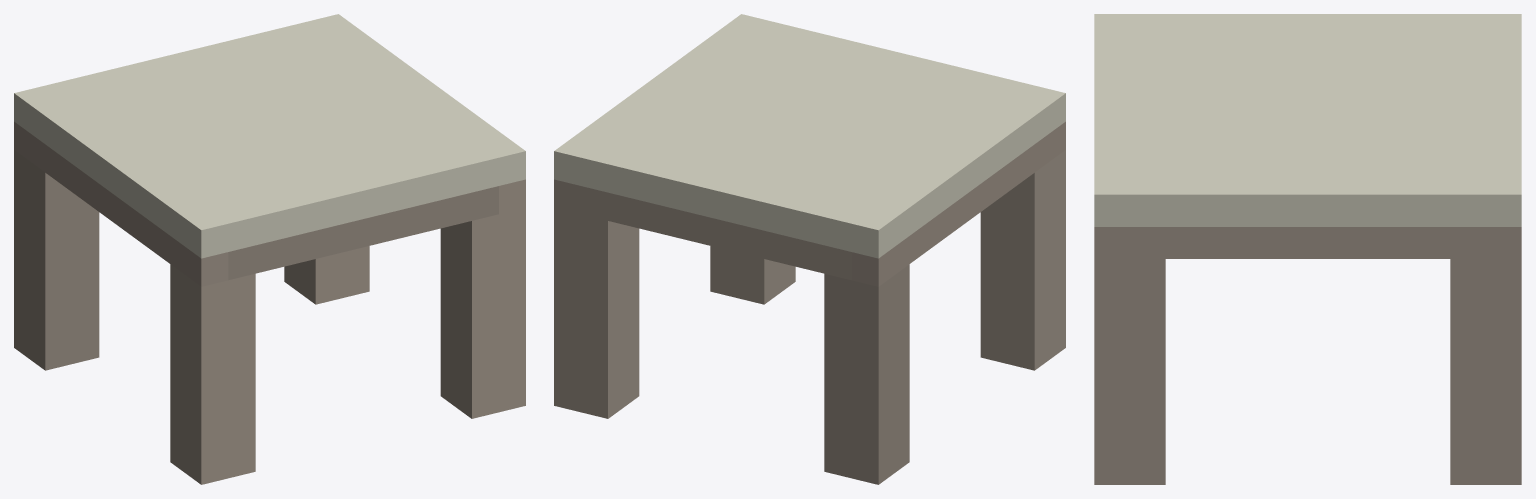
File: mesa_reposteria_desgastada_01.glb
3 renders of one model, left to right at view 1: azimuth 30°, elevation 25°; view 2: azimuth 150°, elevation 25°; view 3: azimuth 270°, elevation 25°, orthographic. The views are drawn at different scales.
Visible parts, largest first — view 1: mesa_reposteria_desgastada; view 2: mesa_reposteria_desgastada; view 3: mesa_reposteria_desgastada.
Boxes of the visible parts, <box> form: mesa_reposteria_desgastada: <box>14,14,525,484</box>; mesa_reposteria_desgastada: <box>554,14,1065,484</box>; mesa_reposteria_desgastada: <box>1094,14,1521,484</box>.
Bounding box in the file's own units: 1 × 0.75 × 1.
